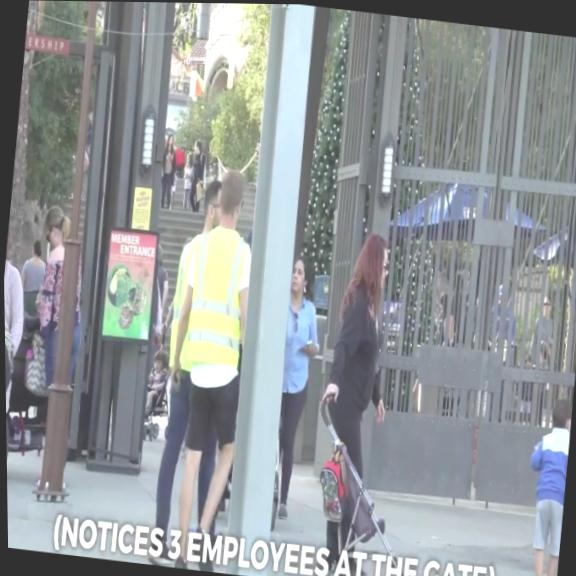safety_vest: (181, 224, 253, 370), (162, 228, 208, 369)
